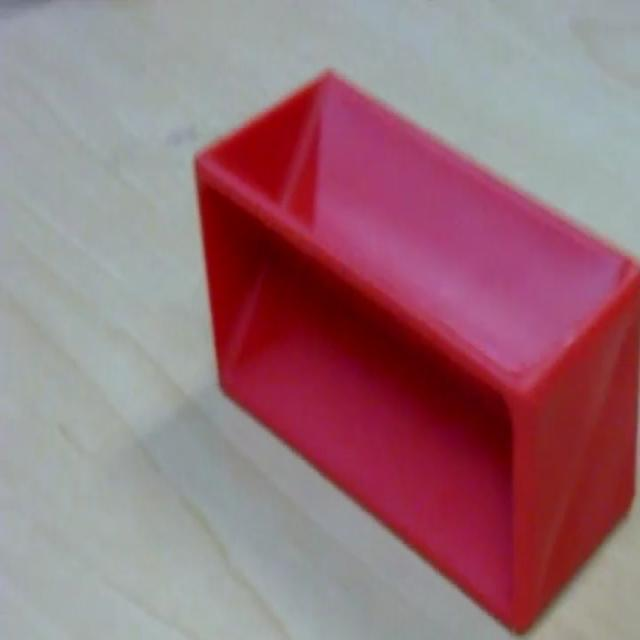red_block: (191, 65, 638, 632)
